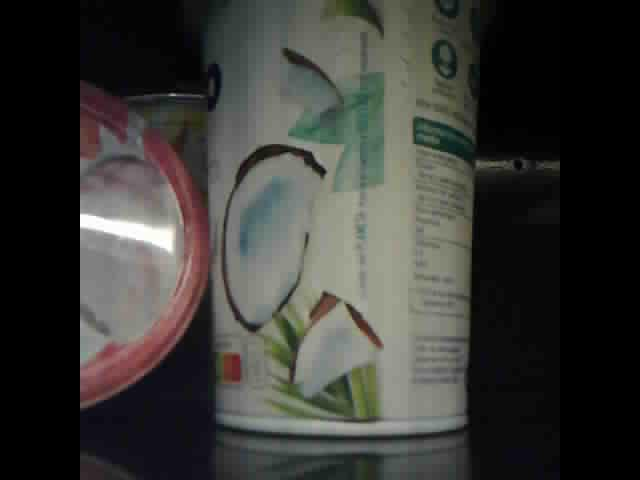alpro: (198, 1, 486, 441), (80, 78, 212, 427)
